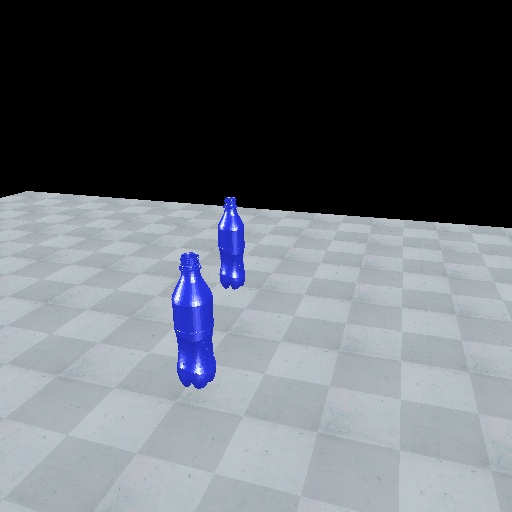bottle: (169, 250, 219, 391), (215, 194, 249, 291)
